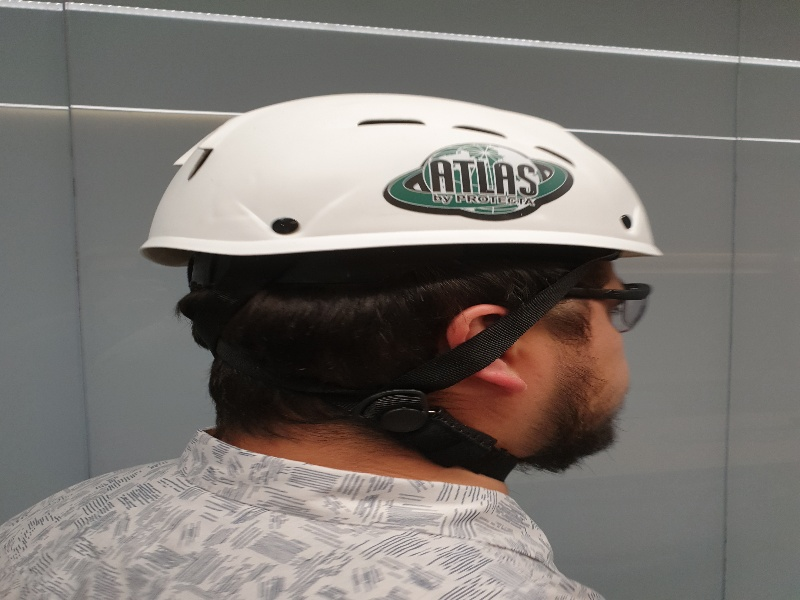Baret: (142, 89, 667, 258)
Gozluk: (548, 280, 655, 333)
